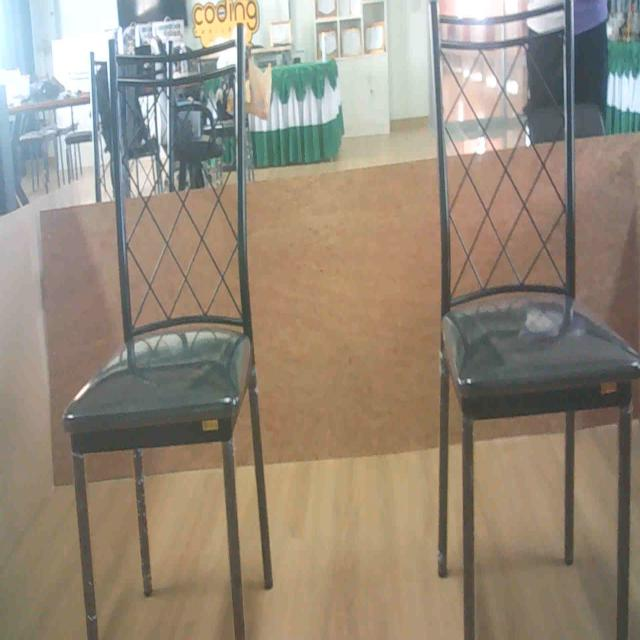empty: (427, 0, 640, 420), (58, 34, 252, 456)
